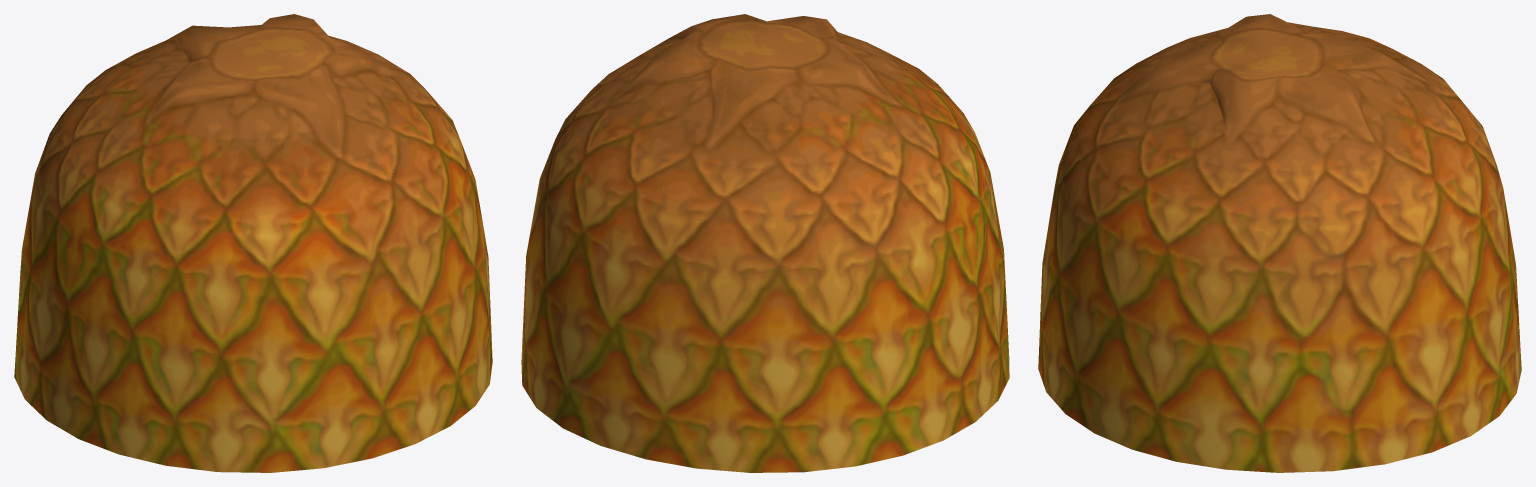
Rendered from SM_PineappleCutBottom.fbx.
The picture shows the model from 3 angles, left to right: view 1: azimuth 30°, elevation 25°; view 2: azimuth 150°, elevation 25°; view 3: azimuth 270°, elevation 25°; orthographic projection.
Visible parts, largest first — view 1: SM_PineappleCutBottom; view 2: SM_PineappleCutBottom; view 3: SM_PineappleCutBottom.
Boxes of the visible parts, box(x1,y1,x2,y2) form: SM_PineappleCutBottom: box(14, 14, 492, 472); SM_PineappleCutBottom: box(521, 14, 1009, 472); SM_PineappleCutBottom: box(1038, 14, 1521, 472).
Bounding box in the file's own units: 18.91 × 13.94 × 18.87.
1 material, 1 textured.
